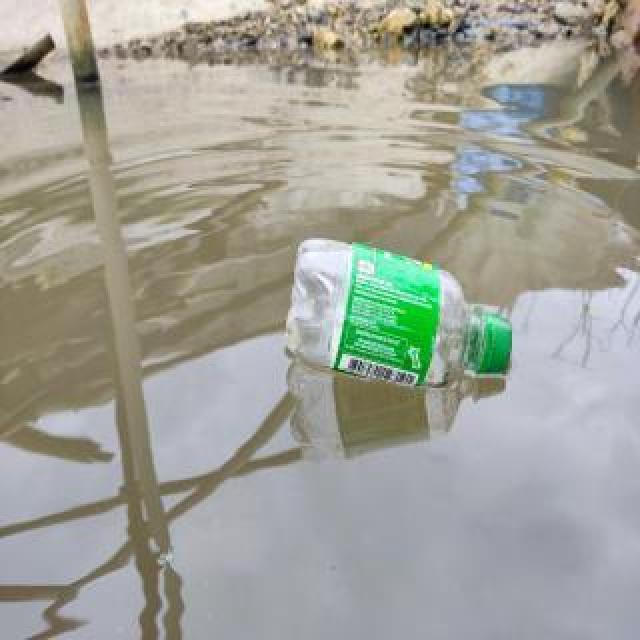bottle: (281, 232, 515, 394)
